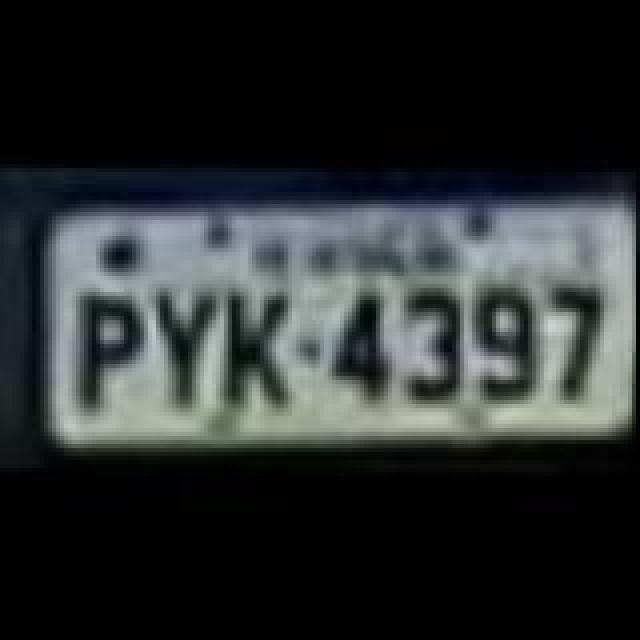3: (398, 286, 474, 402)
4: (328, 290, 400, 410)
7: (536, 282, 616, 406)
9: (470, 280, 546, 404)
K: (216, 288, 296, 416)
P: (76, 294, 148, 418)
Y: (148, 290, 228, 414)
